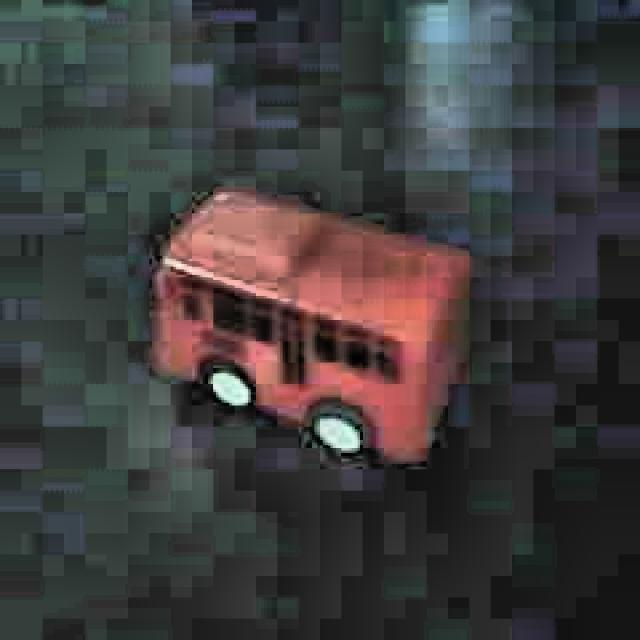bus: (147, 183, 478, 471)
